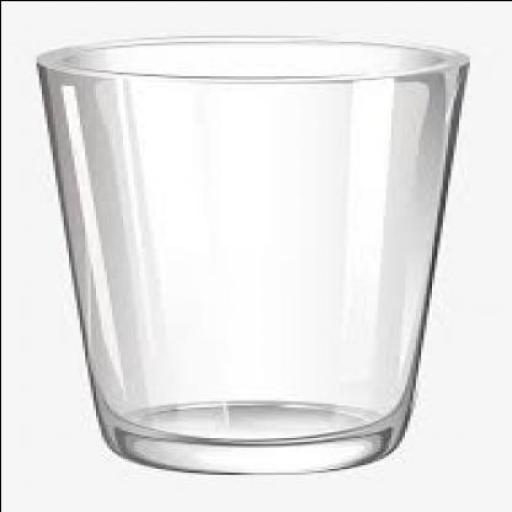glass: (38, 33, 469, 468)
